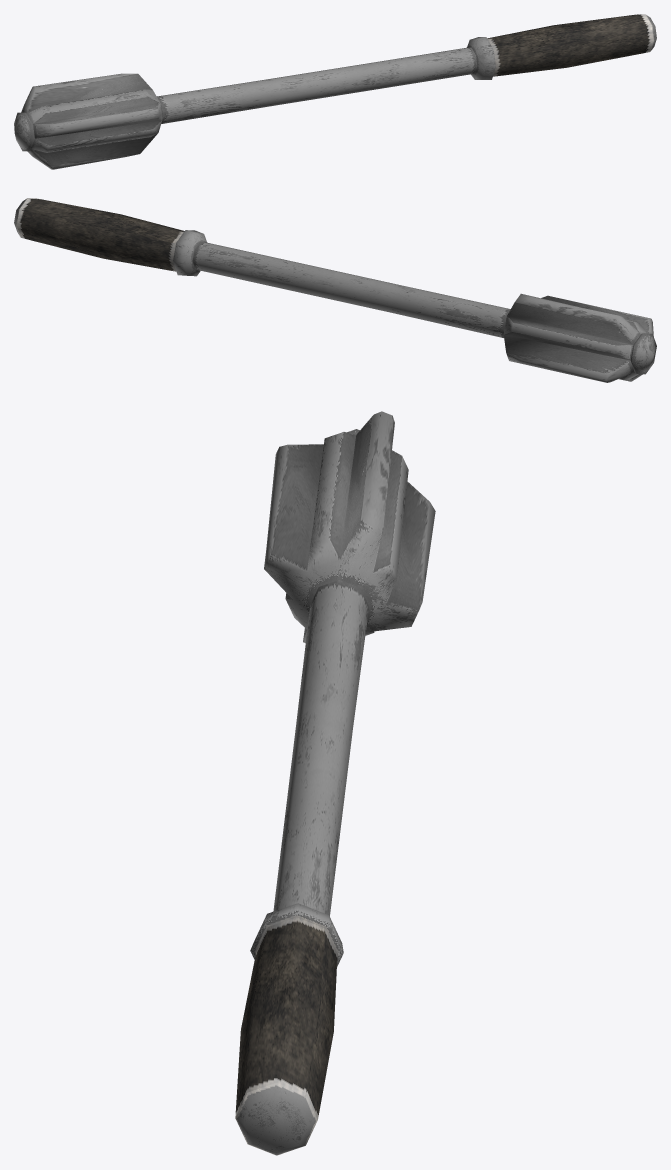
File: wp_mace.glb
3 renders of one model, top to bottom at view 1: azimuth 30°, elevation 25°; view 2: azimuth 150°, elevation 25°; view 3: azimuth 270°, elevation 25°, orthographic. The views are drawn at different scales.
Visible parts, largest first — view 1: arms.002; view 2: arms.002; view 3: arms.002.
Boxes of the visible parts, left/top/right/bottom form: arms.002: left=14, top=14, right=656, bottom=169; arms.002: left=14, top=198, right=656, bottom=382; arms.002: left=235, top=411, right=435, bottom=1155.
Size of the model in its own units: 1.91 by 0.2617 by 0.2692.
1 material, 1 textured.
